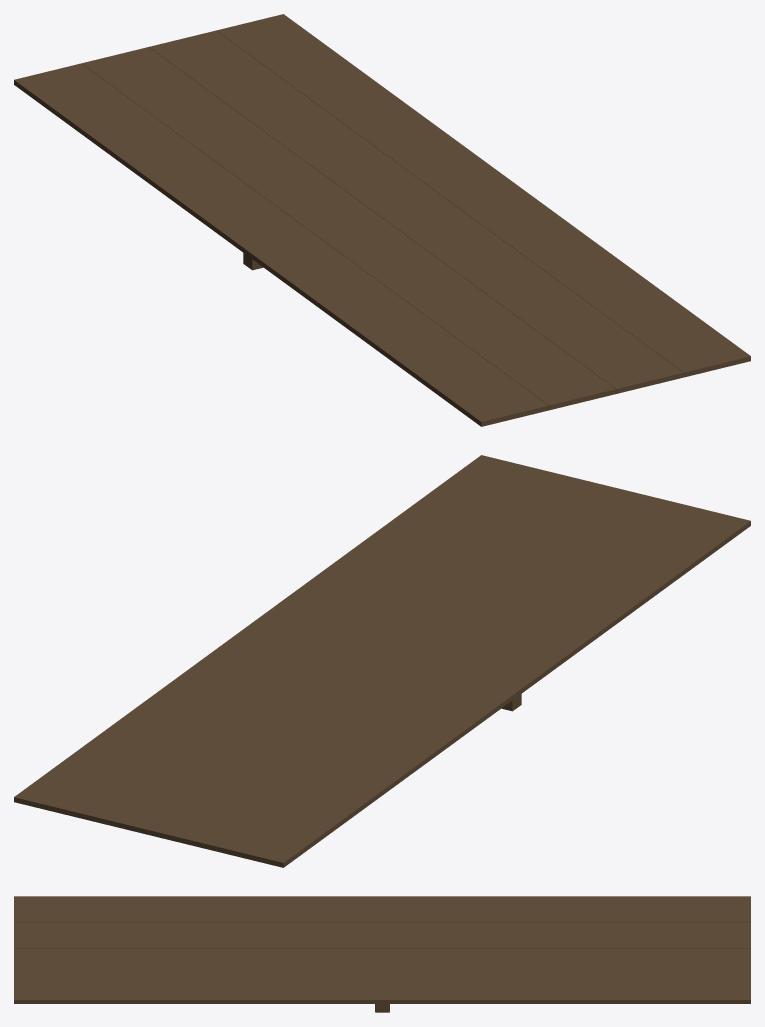
Rendered from ceiling-course-lod0.fbx.
3 renders of one model, top to bottom at view 1: azimuth 30°, elevation 25°; view 2: azimuth 150°, elevation 25°; view 3: azimuth 270°, elevation 25°, orthographic. The views are drawn at different scales.
Visible parts, largest first — view 1: Boarded ceiling panel.001, Boarded ceiling panel, Boarded ceiling panel.003, Boarded ceiling panel.002; view 2: Boarded ceiling panel.001, Boarded ceiling panel, Boarded ceiling panel.003, Boarded ceiling panel.002; view 3: Boarded ceiling panel, Boarded ceiling panel.001, Boarded ceiling panel.002, Boarded ceiling panel.003.
Part boxes in pixels (box(x1,y1,x2,y2)): Boarded ceiling panel.001: box(14, 63, 548, 426); Boarded ceiling panel: box(216, 14, 750, 377); Boarded ceiling panel.003: box(149, 30, 683, 393); Boarded ceiling panel.002: box(81, 47, 615, 410); Boarded ceiling panel.001: box(216, 504, 750, 867); Boarded ceiling panel: box(14, 455, 548, 818); Boarded ceiling panel.003: box(81, 471, 615, 834); Boarded ceiling panel.002: box(149, 488, 683, 851); Boarded ceiling panel: box(14, 974, 750, 1003); Boarded ceiling panel.001: box(14, 896, 750, 922); Boarded ceiling panel.002: box(14, 922, 750, 948); Boarded ceiling panel.003: box(14, 948, 750, 973).
Size of the model in its own units: 100 by 5.85 by 300.
